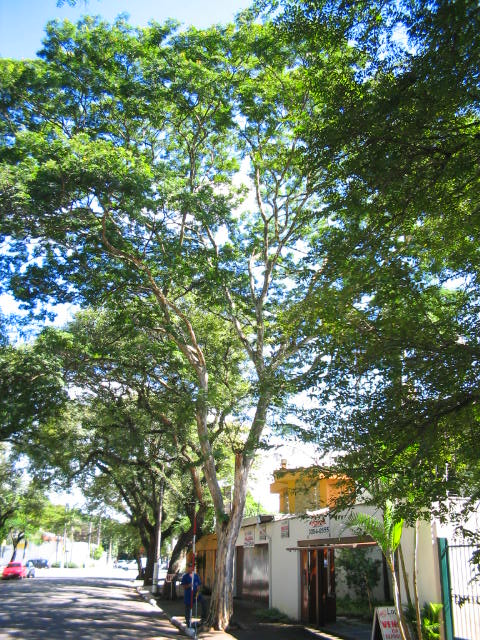crown: (41, 14, 434, 458)
stem: (204, 528, 251, 630)
stick: (183, 512, 202, 628)
tree: (38, 9, 434, 630)
